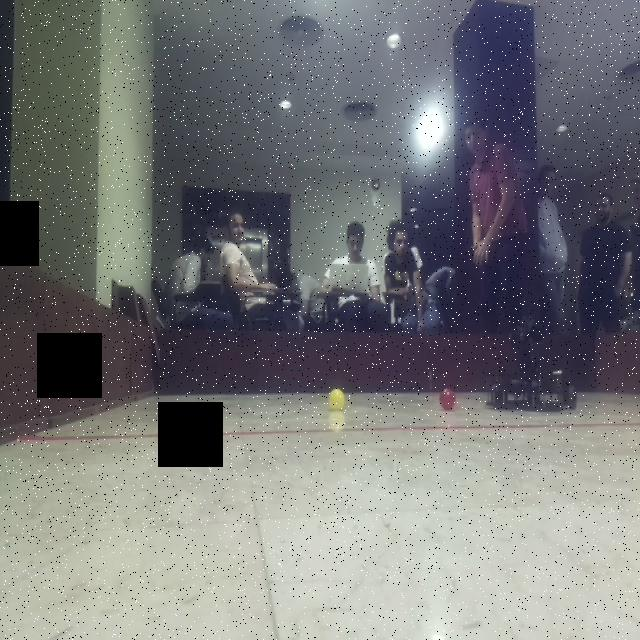ball: (436, 386, 461, 414), (325, 386, 349, 415)
